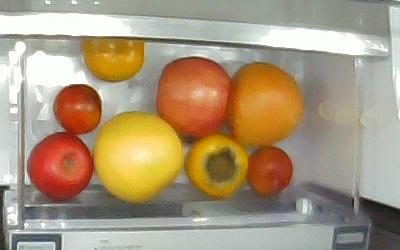apple: (156, 57, 231, 140), (28, 132, 93, 203)
grapefruit: (93, 110, 183, 204), (227, 62, 302, 149)
persimmon: (185, 133, 247, 198), (80, 39, 144, 83)
prune: (53, 84, 102, 135), (247, 146, 293, 195)
